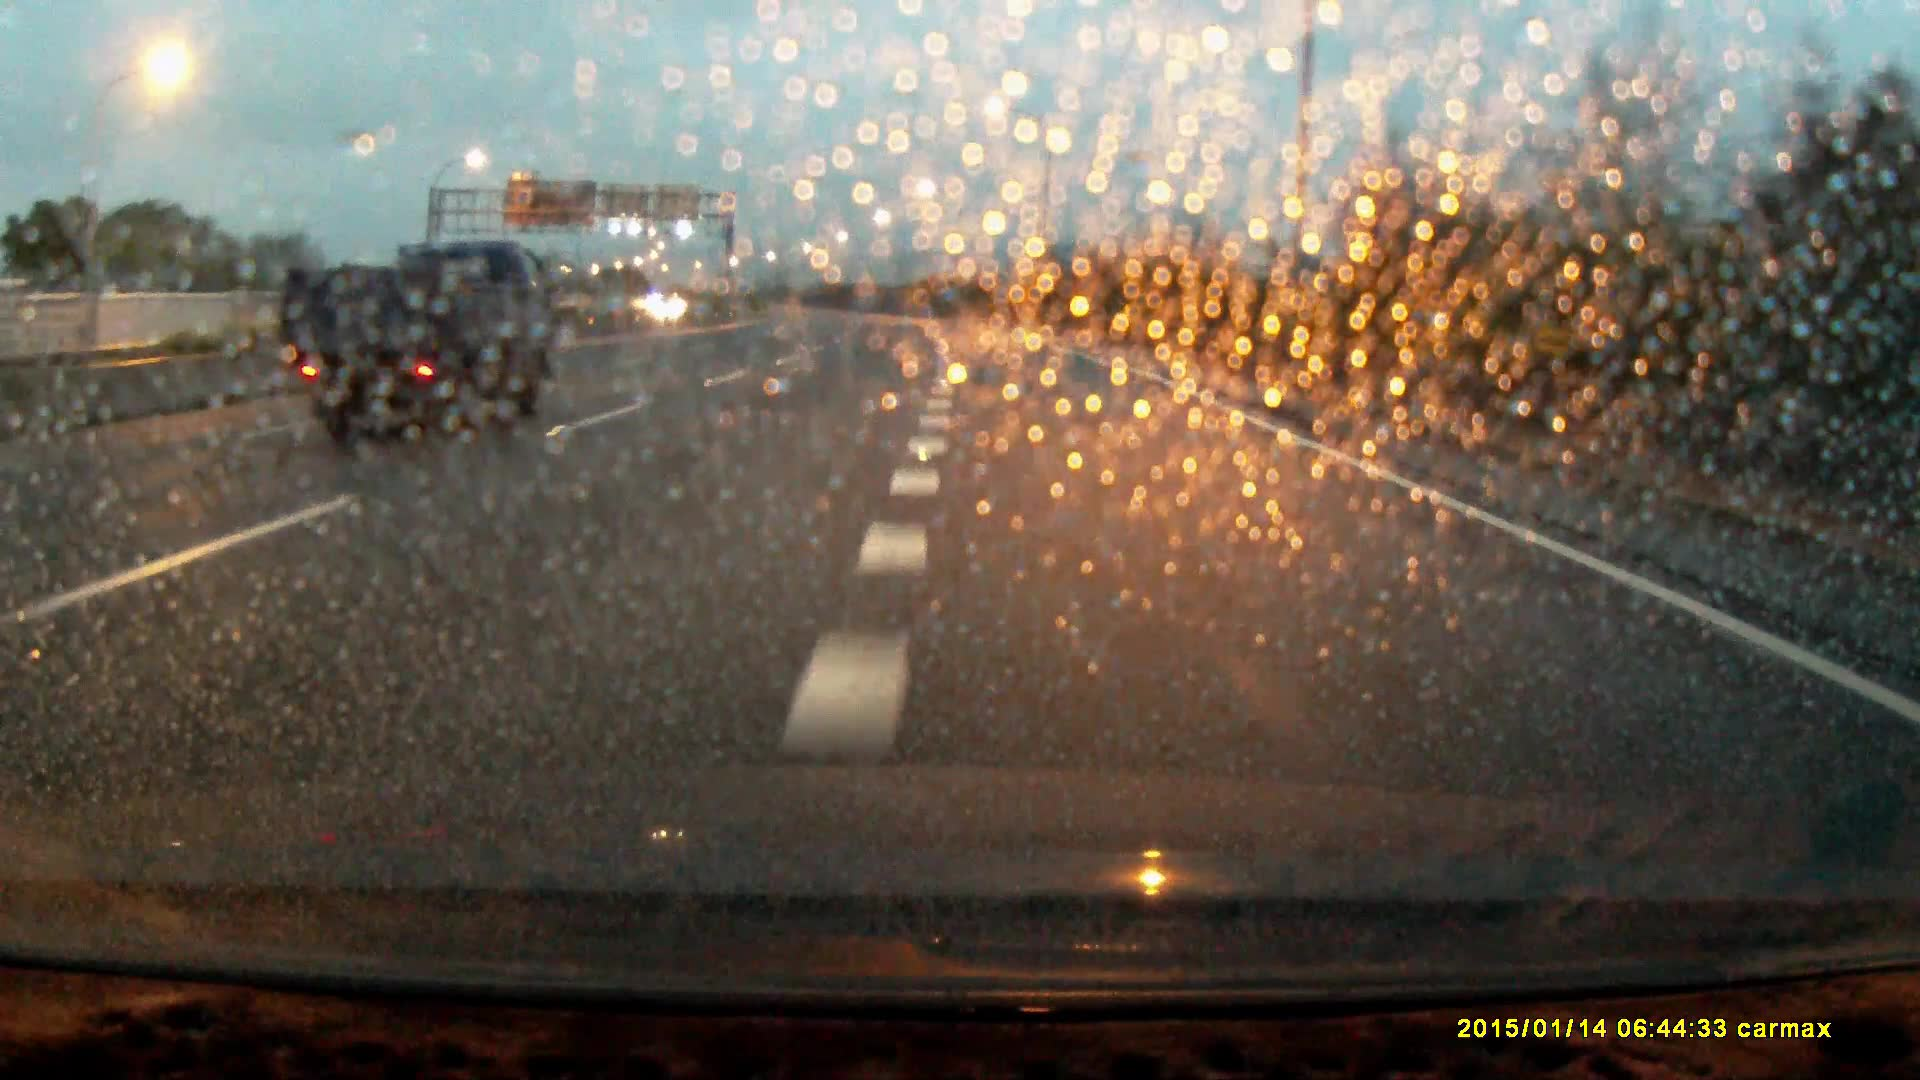vehicle: (284, 237, 541, 443)
